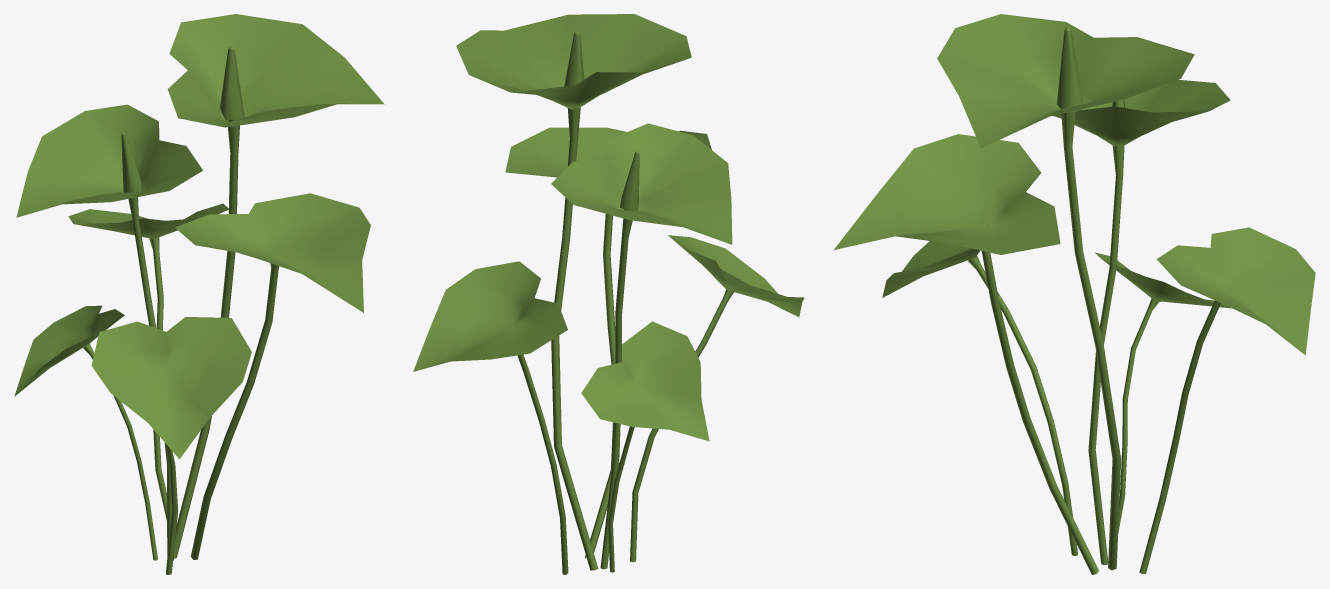
Rendered from Swamp_Calla_2.glb.
3 renders of one model, left to right at view 1: azimuth 30°, elevation 25°; view 2: azimuth 150°, elevation 25°; view 3: azimuth 270°, elevation 25°, orthographic. The views are drawn at different scales.
Parts seen in each view (by area): view 1: Swamp_Calla_2; view 2: Swamp_Calla_2; view 3: Swamp_Calla_2.
Part boxes in pixels (x1=…): Swamp_Calla_2: x1=14, y1=14, x2=384, y2=574; Swamp_Calla_2: x1=413, y1=14, x2=804, y2=574; Swamp_Calla_2: x1=833, y1=14, x2=1315, y2=574.
Bounding box in the file's own units: 42.42 × 70.32 × 54.68.
